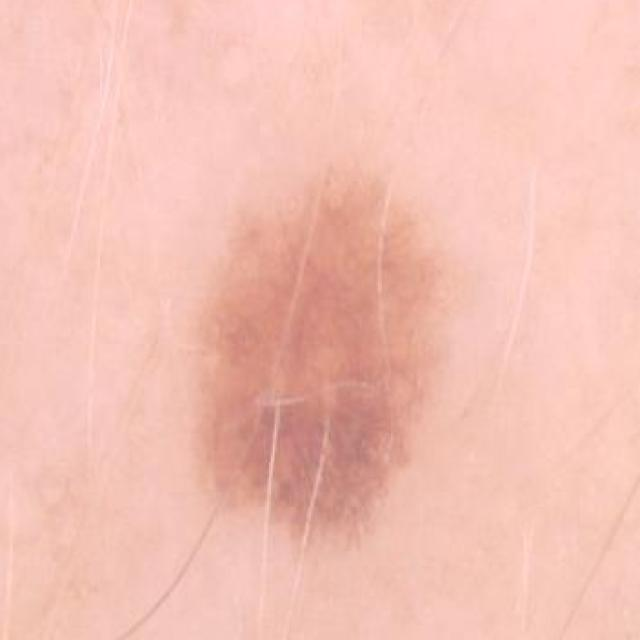NV: (116, 163, 536, 582)
